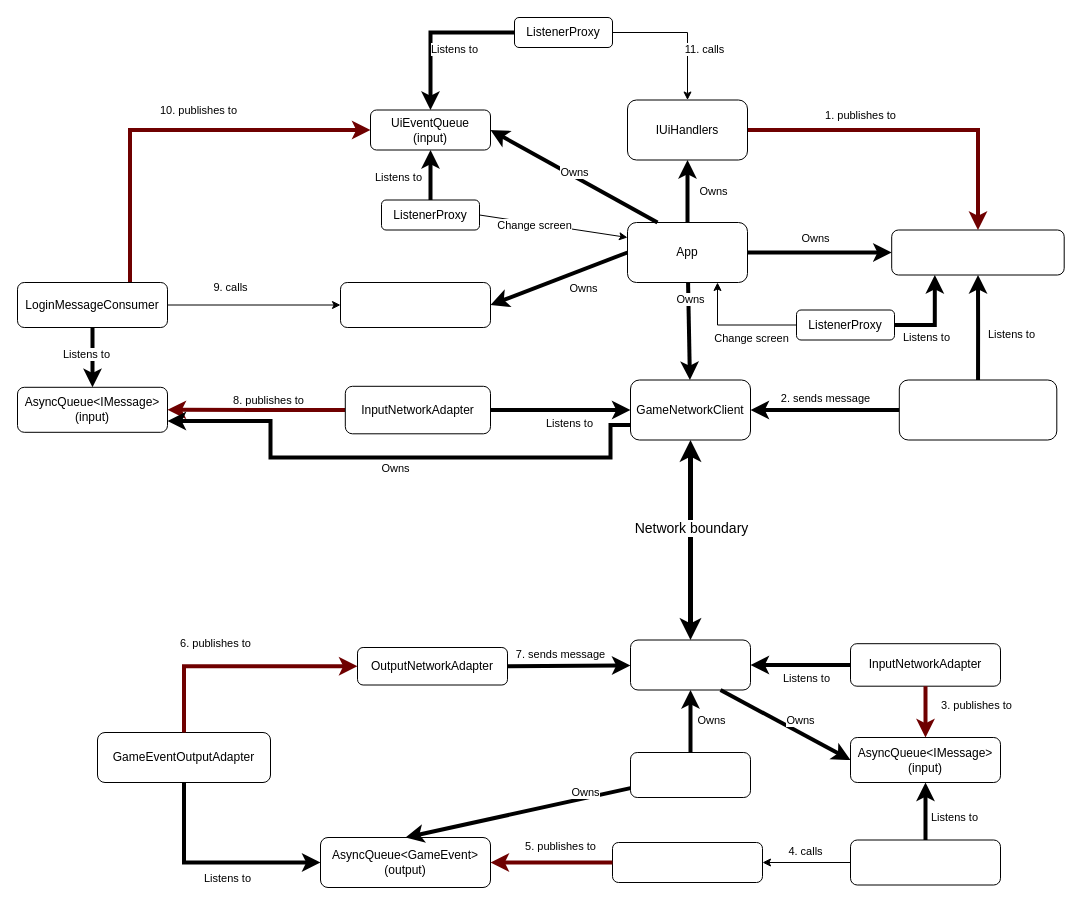
Image size: 1082x905. Some labels were removed from this diagram. Each missing label, with the centre of its shape:
"AsyncQueue<UiCommand> (output)" goes at point (977, 252).
"LoginRequestConsumer" goes at point (925, 862).
"LoginUseCase" goes at point (687, 862).
"OutputUiCommandAdapter" goes at point (977, 409).
"Server" goes at point (690, 775).
"ServerDataStore" goes at point (415, 305).
"ServerNetworkClient" goes at point (690, 664).
